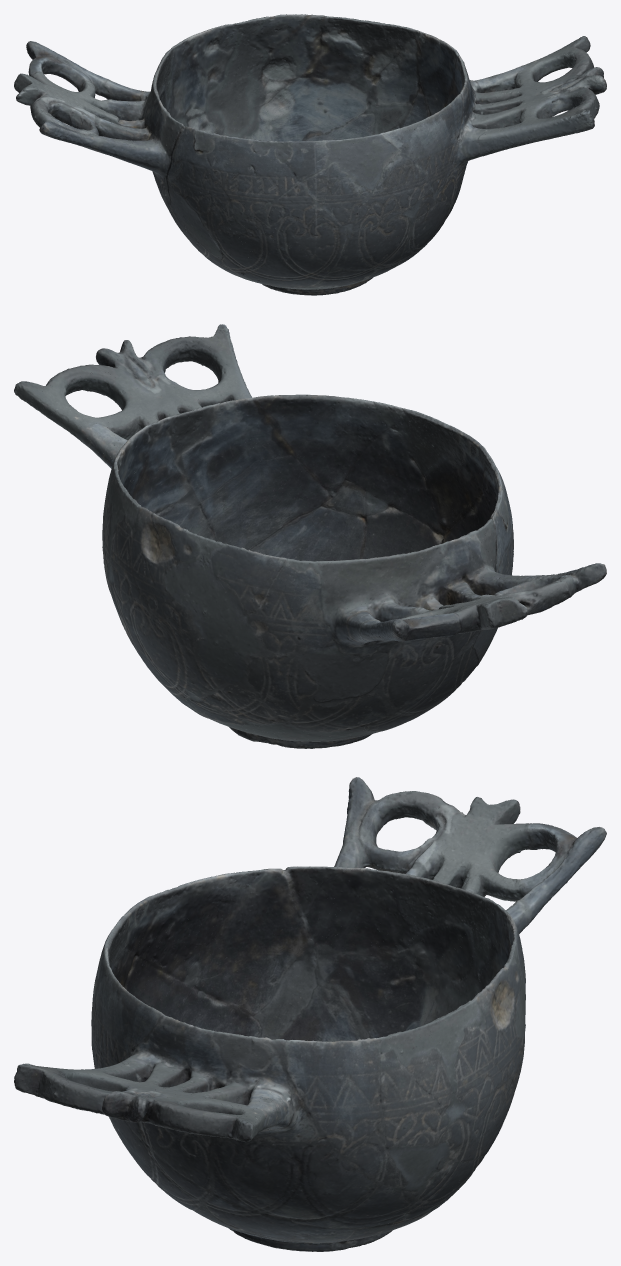
File: bucchero_kotyle.glb
The picture shows the model from 3 angles, top to bottom: view 1: azimuth 30°, elevation 25°; view 2: azimuth 150°, elevation 25°; view 3: azimuth 270°, elevation 25°; orthographic projection. The views are drawn at different scales.
Visible parts, largest first — view 1: Object_7, Object_6, Object_2, Object_8, Object_3, Object_4, Object_5; view 2: Object_4, Object_6, Object_2, Object_7, Object_3, Object_8, Object_5; view 3: Object_3, Object_6, Object_7, Object_4, Object_2, Object_8, Object_5.
Boxes of the visible parts, bbox=[...] form: Object_7: bbox=[54, 14, 467, 281]; Object_6: bbox=[19, 51, 471, 281]; Object_2: bbox=[14, 16, 549, 295]; Object_8: bbox=[150, 14, 481, 272]; Object_3: bbox=[153, 39, 604, 293]; Object_4: bbox=[83, 14, 606, 294]; Object_5: bbox=[26, 41, 349, 295]; Object_4: bbox=[14, 324, 514, 748]; Object_6: bbox=[183, 395, 597, 708]; Object_2: bbox=[17, 395, 606, 748]; Object_7: bbox=[114, 394, 590, 709]; Object_3: bbox=[14, 324, 426, 739]; Object_8: bbox=[114, 394, 466, 663]; Object_5: bbox=[331, 412, 517, 737]; Object_3: bbox=[14, 873, 488, 1251]; Object_6: bbox=[91, 816, 586, 1184]; Object_7: bbox=[94, 849, 531, 1213]; Object_4: bbox=[15, 858, 525, 1249]; Object_2: bbox=[145, 777, 604, 1251]; Object_8: bbox=[101, 902, 511, 1217]; Object_5: bbox=[107, 825, 606, 1036].
Bounding box in the file's own units: 0.2028 × 0.0745 × 0.1477.
2 materials, 2 textured.
